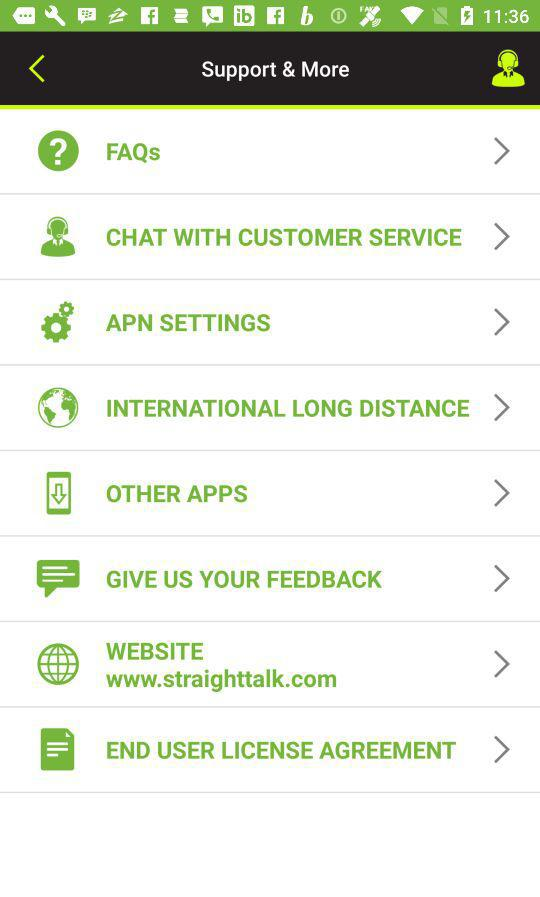Icon: (38, 131, 80, 173), (36, 560, 81, 599), (41, 216, 77, 258), (41, 728, 76, 771), (41, 301, 75, 344), (491, 49, 526, 89), (47, 472, 73, 516), (28, 55, 47, 84), (493, 649, 511, 678), (493, 479, 511, 508), (493, 137, 511, 166), (493, 565, 511, 593), (493, 394, 511, 422), (494, 308, 511, 337), (494, 736, 511, 764), (494, 223, 511, 251)
Image: (38, 643, 81, 686), (39, 388, 80, 429)
Text: (107, 399, 470, 418), (107, 229, 462, 248), (107, 741, 457, 760), (106, 669, 337, 693), (106, 569, 383, 589), (202, 61, 350, 83), (106, 314, 271, 333), (107, 484, 248, 503), (107, 641, 205, 661), (107, 142, 161, 164)
Toolbar: (1, 33, 540, 106)
UpperTaskBar: (1, 1, 540, 33)
